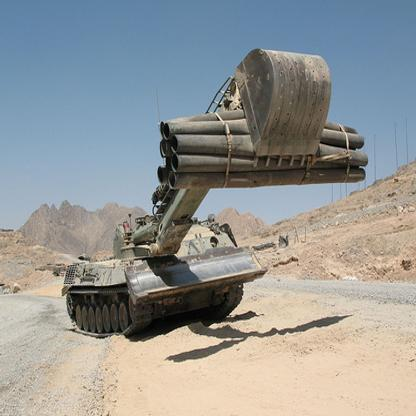Tank: (62, 207, 270, 353)
